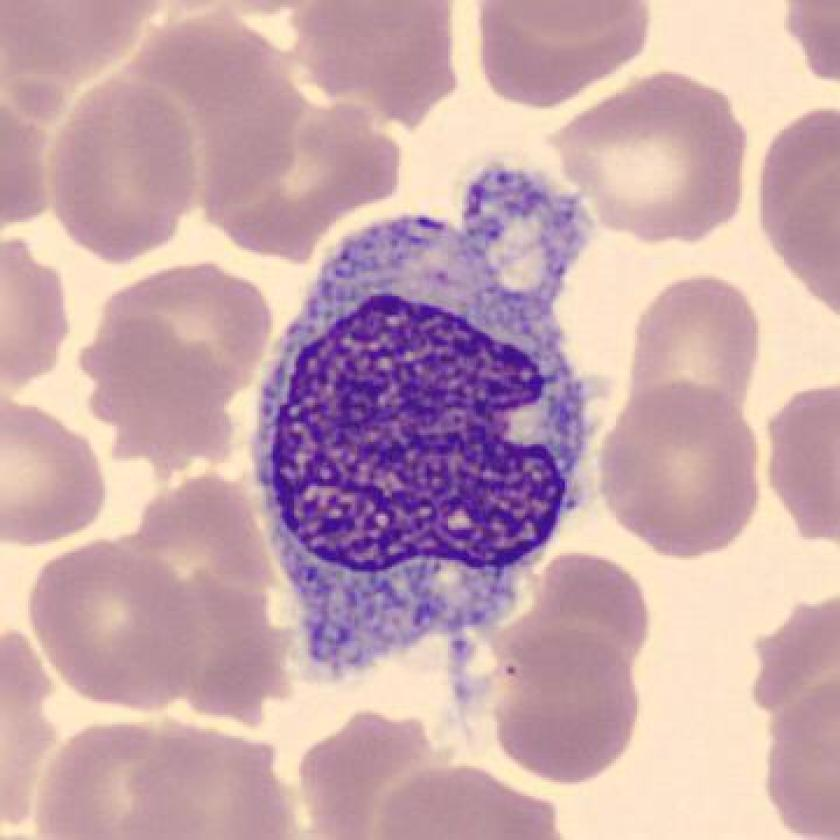monocyte: (237, 145, 619, 721)
